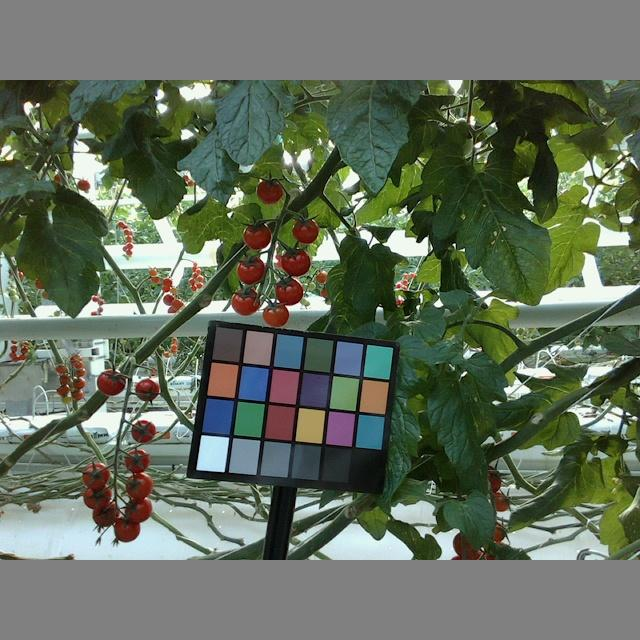red: (273, 275, 303, 304), (236, 255, 266, 284), (111, 512, 139, 543), (229, 288, 261, 315), (241, 221, 269, 250), (256, 178, 285, 205), (281, 250, 310, 277), (81, 462, 111, 488), (80, 482, 111, 507), (124, 497, 151, 525), (124, 474, 154, 498), (95, 371, 126, 394), (293, 217, 319, 243), (91, 502, 118, 527), (262, 302, 290, 325), (122, 450, 150, 472), (134, 378, 159, 402), (130, 419, 154, 442)
